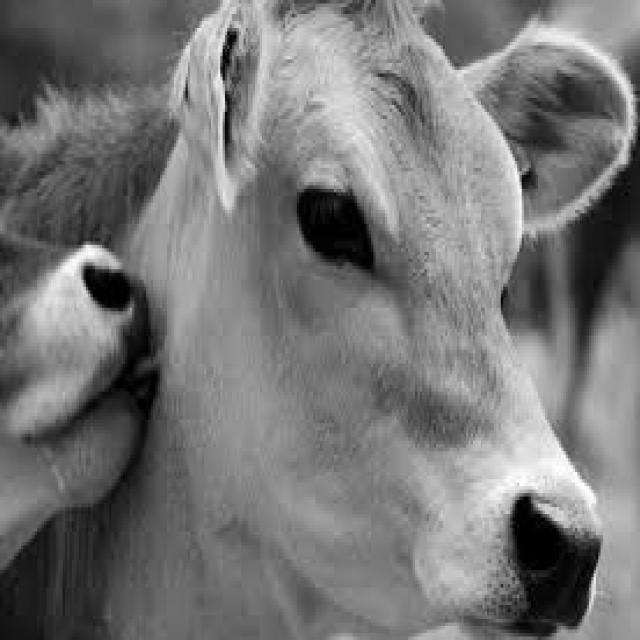Cow: (0, 0, 635, 636)
